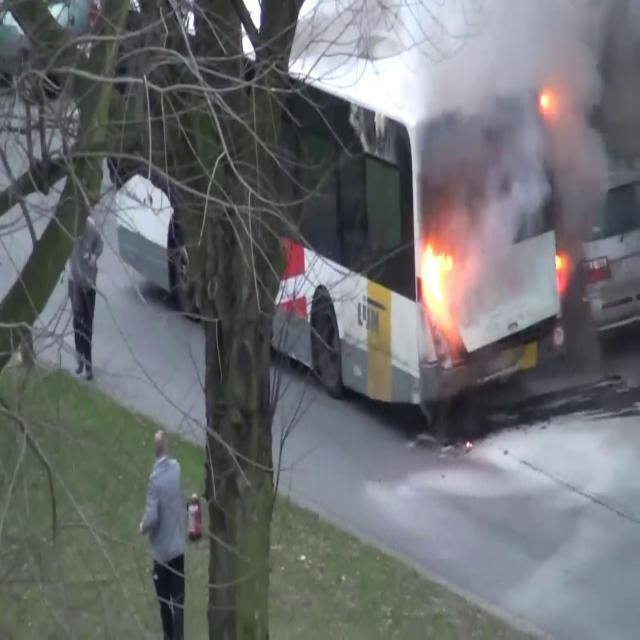Fire: (416, 227, 462, 337)
Smoke: (419, 0, 640, 294)
